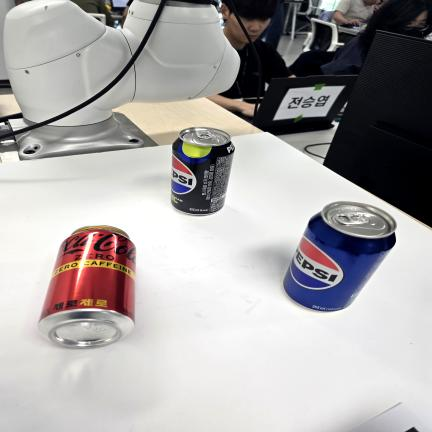can_coke_decaf: (38, 225, 138, 353)
can_pepsi: (279, 201, 396, 313)
can_pepsi_zero: (169, 125, 238, 217)
